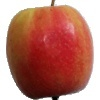apple: (5, 4, 96, 100)
